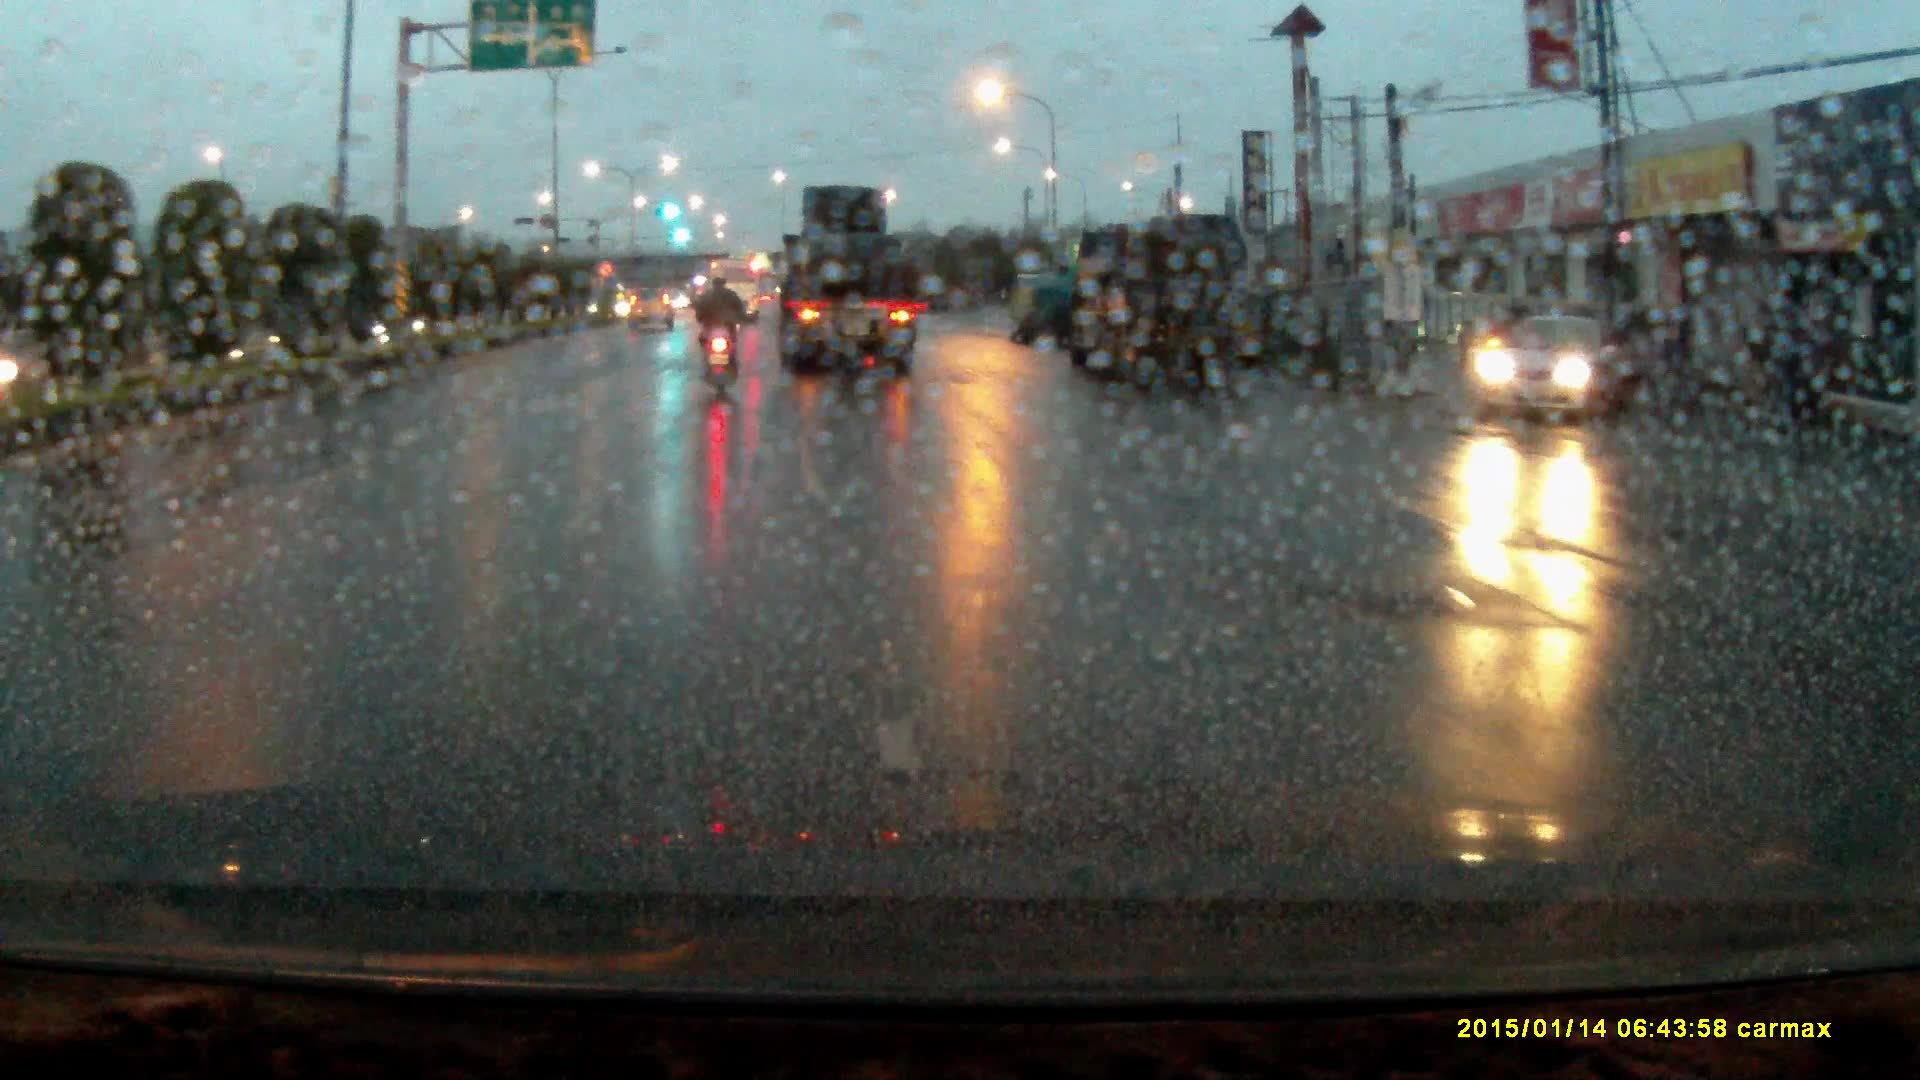rider: (691, 270, 750, 398)
vehicle: (1067, 211, 1250, 397), (780, 191, 918, 380), (1469, 309, 1656, 422), (1007, 272, 1080, 348), (709, 259, 759, 323), (626, 289, 675, 335)
